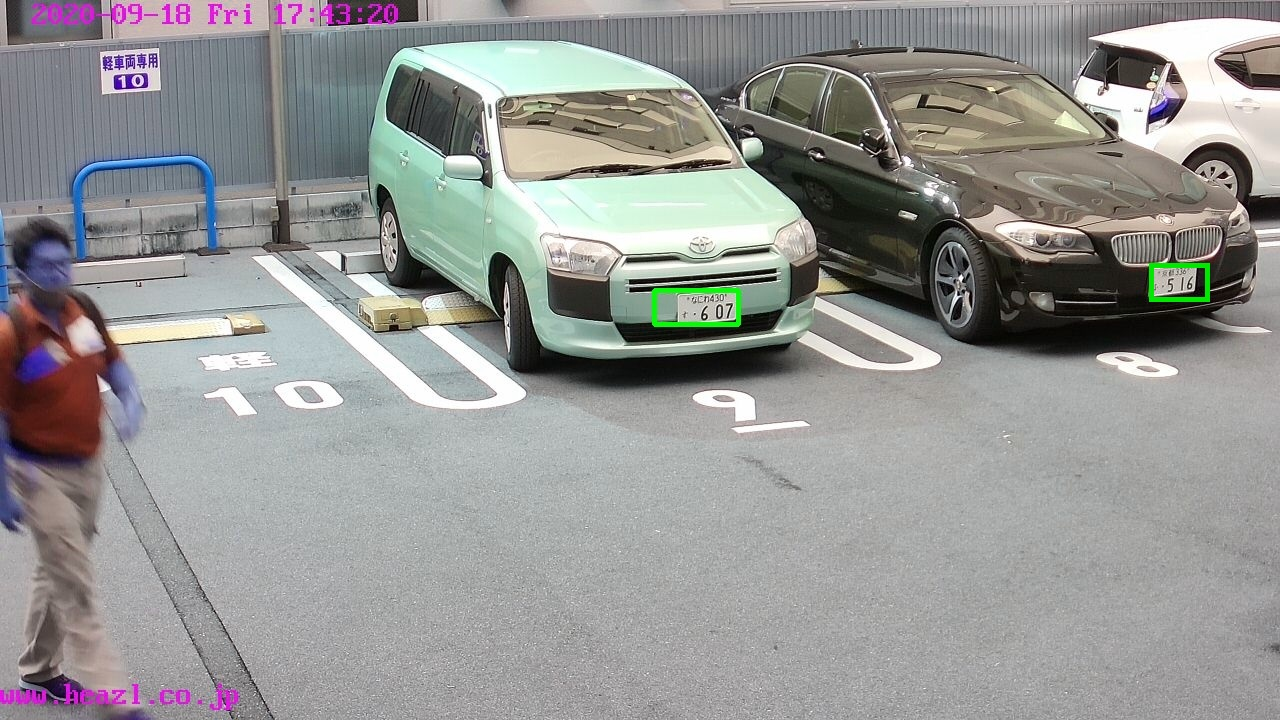number_plate: (677, 291, 738, 322), (1148, 265, 1198, 295)
